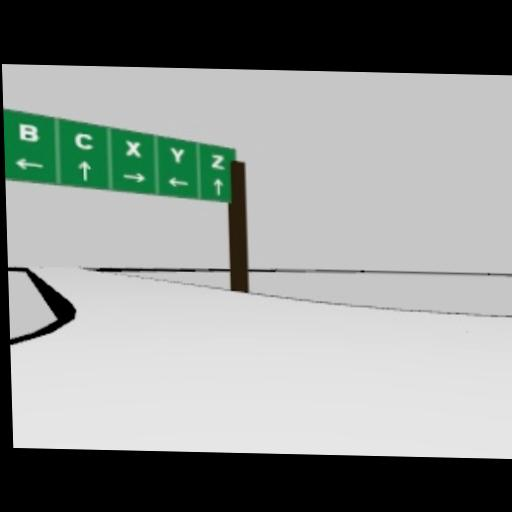B: (17, 121, 41, 144)
C: (72, 130, 96, 152)
Left: (14, 155, 46, 172), (168, 176, 189, 190)
Right: (122, 171, 148, 185)
Straight: (76, 159, 92, 182), (212, 177, 225, 197)
X: (124, 138, 143, 160)
Y: (168, 146, 187, 166)
Z: (210, 153, 225, 171)
